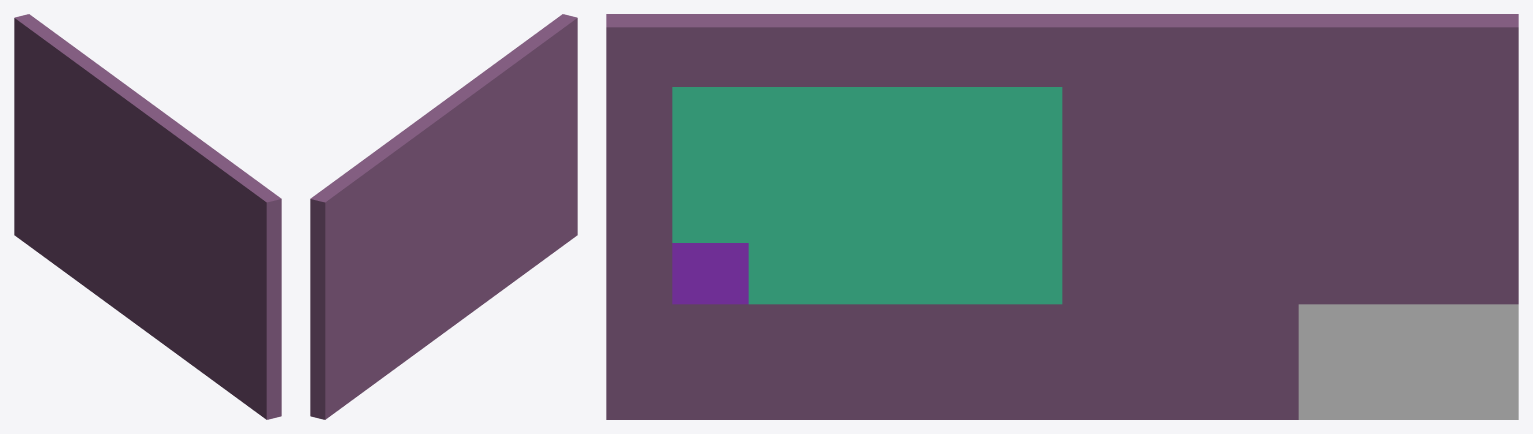
Rendered from Tablero Salon.fbx.
3 renders of one model, left to right at view 1: azimuth 30°, elevation 25°; view 2: azimuth 150°, elevation 25°; view 3: azimuth 270°, elevation 25°, orthographic. The views are drawn at different scales.
Visible parts, largest first — view 1: Tablero.001; view 2: Tablero.001; view 3: Tablero.001.
Part boxes in pixels (bbox=[...]): Tablero.001: bbox=[14, 14, 281, 419]; Tablero.001: bbox=[310, 14, 577, 419]; Tablero.001: bbox=[606, 14, 1518, 419].
Size of the model in its own units: 7.68 by 106 by 224.
